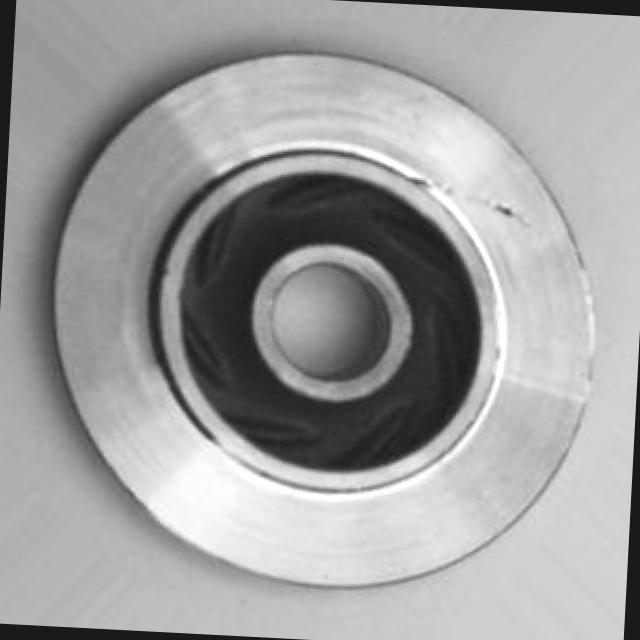Defect: (486, 192, 528, 234)
